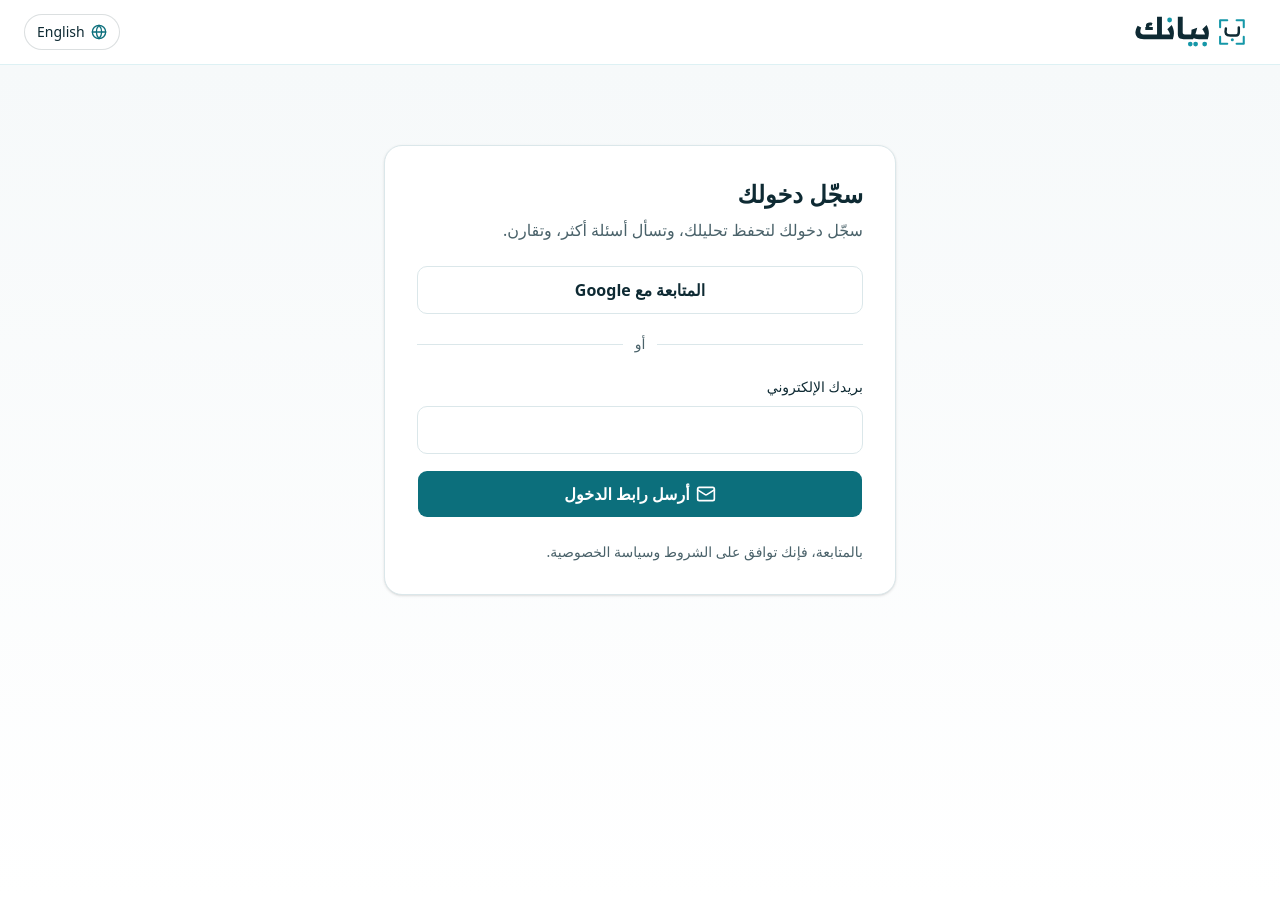
Test: shows the message from the API when too many links were asked for
In the field labelled "بريدك الإلكتروني": (640, 430) x1=417 y1=406 x2=863 y2=454, type "sara@example.com"
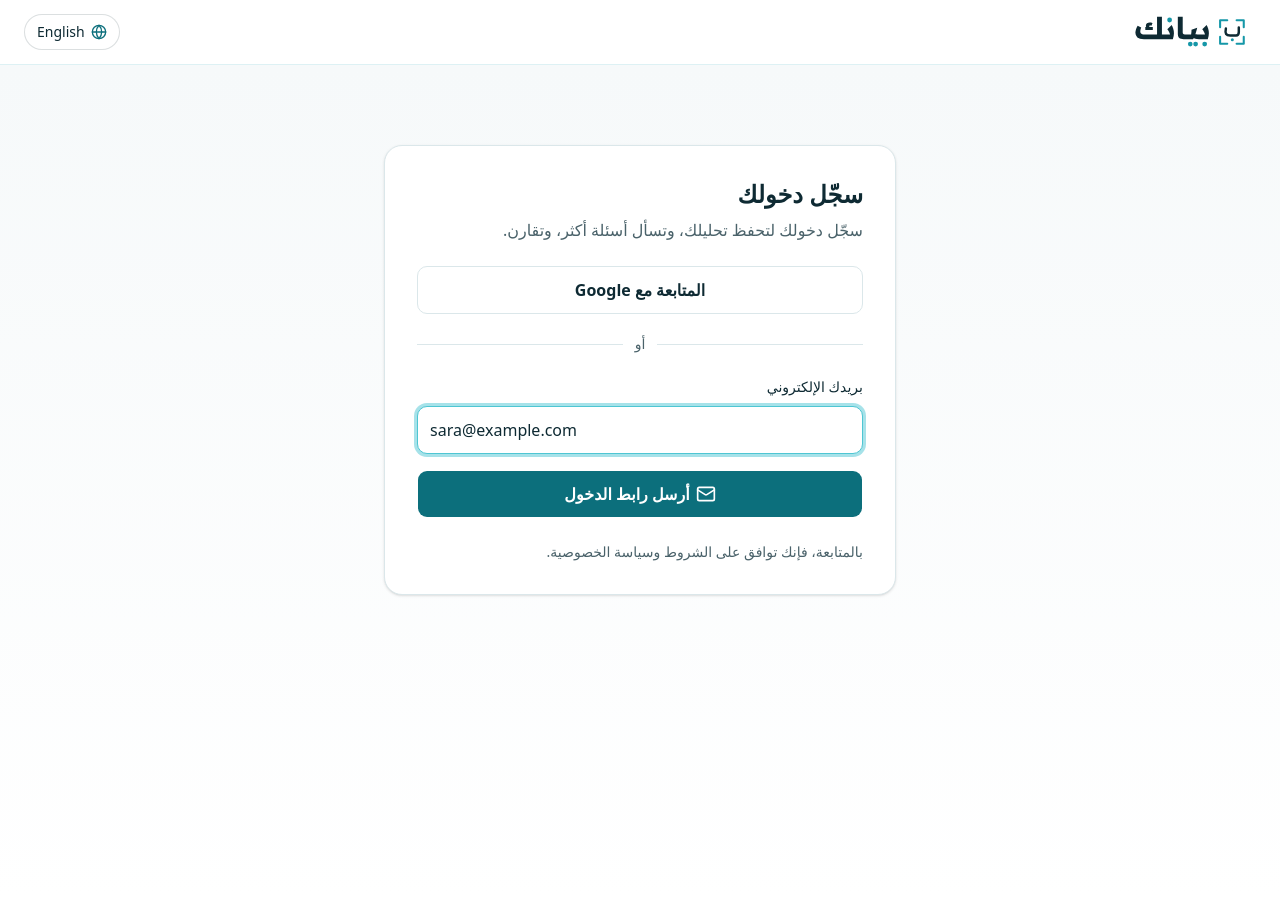
Click the button "أرسل رابط الدخول": click(640, 494) x1=417 y1=470 x2=863 y2=518
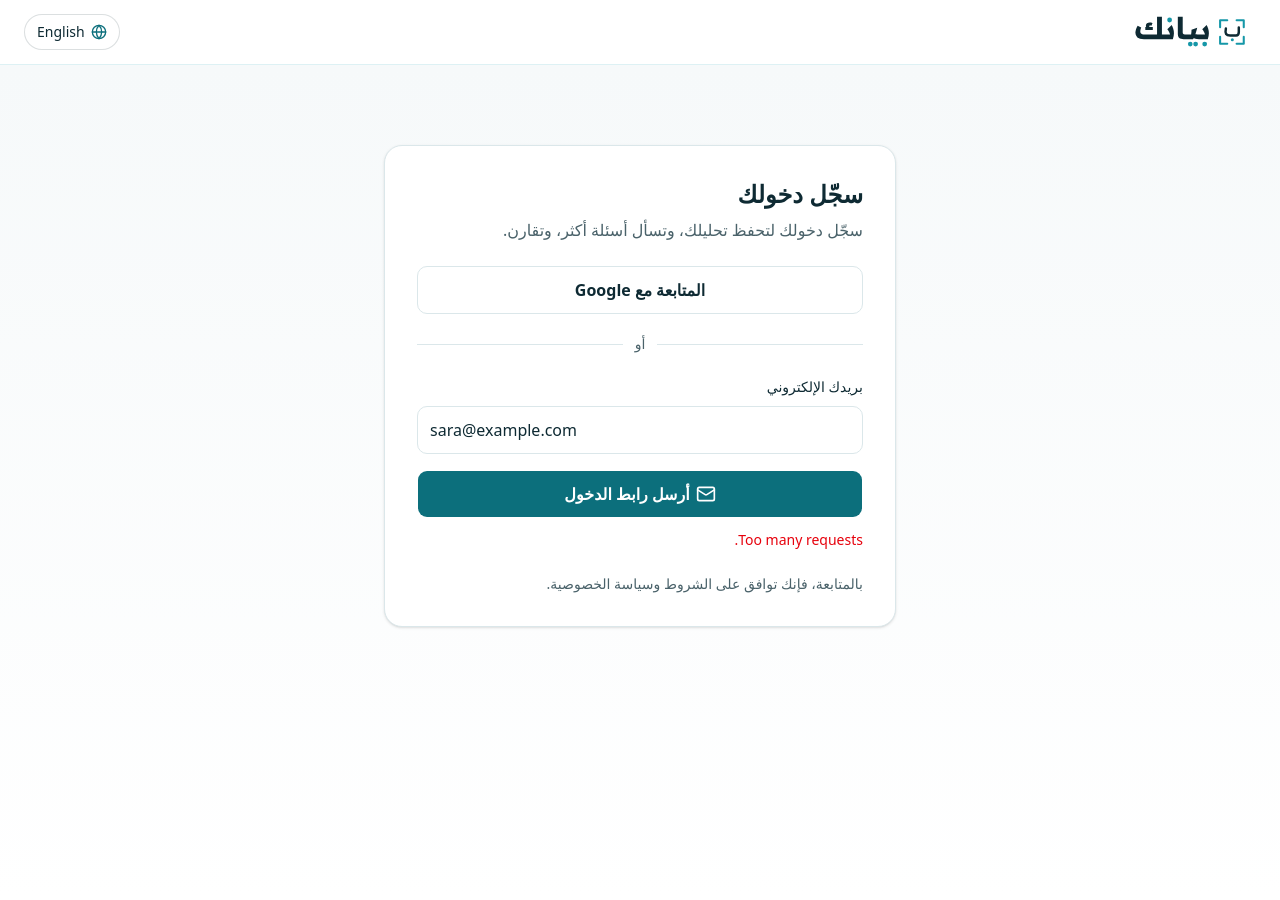
Expected: the message reads "Too many requests.", x1=734 y1=530 x2=863 y2=549
